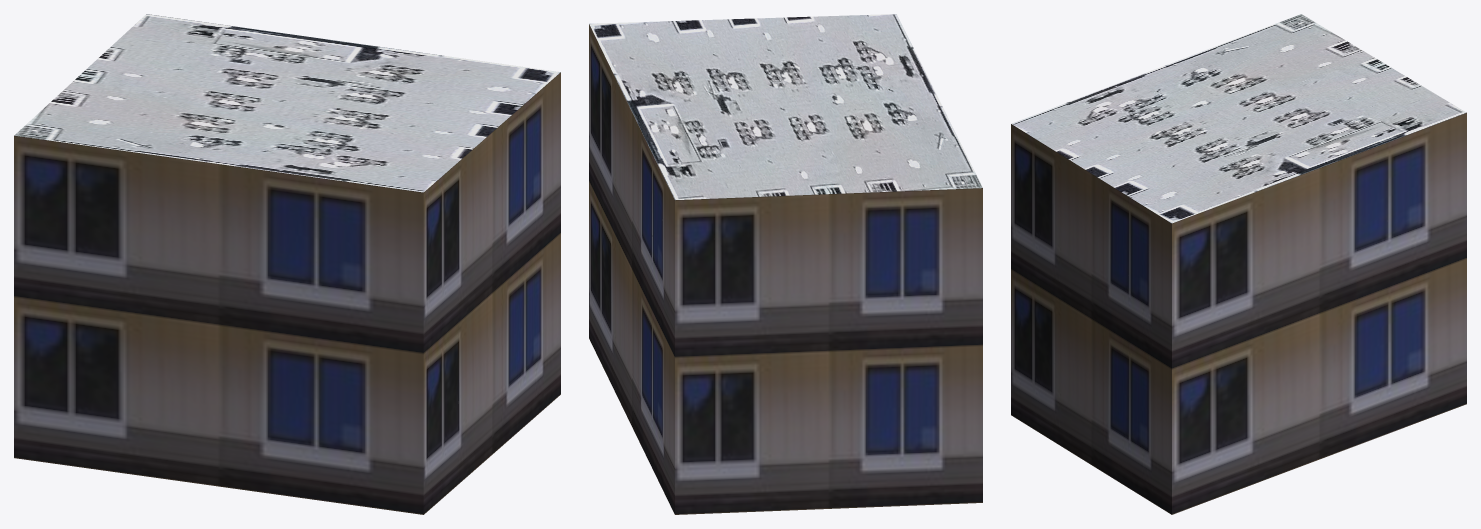
The model's file is ResTex__1593.fbx.
3 renders of one model, left to right at view 1: azimuth 30°, elevation 25°; view 2: azimuth 150°, elevation 25°; view 3: azimuth 270°, elevation 25°, orthographic. The views are drawn at different scales.
Parts seen in each view (by area): view 1: CityEngineMaterial_5_m, CityEngineMaterial_4_m; view 2: CityEngineMaterial_5_m, CityEngineMaterial_4_m; view 3: CityEngineMaterial_5_m, CityEngineMaterial_4_m.
Boxes of the visible parts, bbox=[...] form: CityEngineMaterial_5_m: bbox=[14, 72, 560, 514]; CityEngineMaterial_4_m: bbox=[14, 14, 560, 192]; CityEngineMaterial_5_m: bbox=[589, 24, 982, 514]; CityEngineMaterial_4_m: bbox=[589, 14, 982, 200]; CityEngineMaterial_5_m: bbox=[1011, 113, 1466, 514]; CityEngineMaterial_4_m: bbox=[1011, 14, 1466, 223].
Size of the model in its own units: 9.25 by 6 by 8.51.
Materials: 2 (2 with a texture image).
